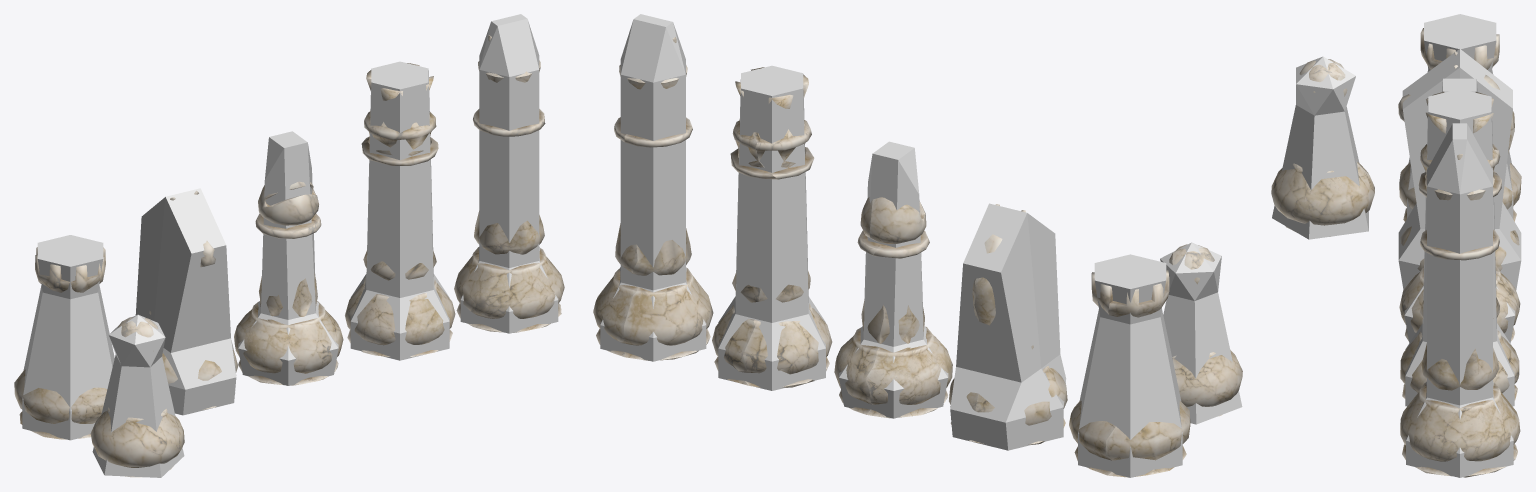
File: chessPieces.fbx
3 views of the same model, side by side, from view 1: azimuth 30°, elevation 25°; view 2: azimuth 150°, elevation 25°; view 3: azimuth 270°, elevation 25° (orthographic). The views are drawn at different scales.
Parts seen in each view (by area): view 1: knight_col, queen_col, king_col, rook_col, bishop, bishop_col, king, queen, Pawn_col, pawn, rook, knight; view 2: knight_col, queen_col, king_col, rook_col, bishop, king, bishop_col, queen, Pawn_col, rook, pawn, knight; view 3: king_col, king, knight_col, Pawn_col, pawn, queen_col, rook_col, queen, rook, bishop, bishop_col, knight.
Boxes of the visible parts, x1=… form: knight_col: x1=135, y1=188, x2=236, y2=415; queen_col: x1=350, y1=61, x2=449, y2=360; king_col: x1=460, y1=14, x2=558, y2=333; rook_col: x1=22, y1=235, x2=114, y2=440; bishop: x1=234, y1=181, x2=343, y2=385; bishop_col: x1=238, y1=131, x2=338, y2=385; king: x1=454, y1=35, x2=564, y2=332; queen: x1=345, y1=63, x2=455, y2=357; Pawn_col: x1=92, y1=314, x2=184, y2=477; pawn: x1=90, y1=317, x2=184, y2=477; rook: x1=14, y1=247, x2=107, y2=439; knight: x1=149, y1=191, x2=238, y2=409; knight_col: x1=950, y1=203, x2=1066, y2=450; queen_col: x1=718, y1=65, x2=825, y2=390; king_col: x1=600, y1=14, x2=706, y2=361; rook_col: x1=1078, y1=254, x2=1182, y2=477; bishop: x1=834, y1=197, x2=952, y2=418; king: x1=593, y1=37, x2=713, y2=360; bishop_col: x1=839, y1=141, x2=948, y2=418; queen: x1=712, y1=67, x2=832, y2=387; Pawn_col: x1=1160, y1=242, x2=1242, y2=424; rook: x1=1069, y1=270, x2=1190, y2=477; pawn: x1=1169, y1=244, x2=1242, y2=416; knight: x1=949, y1=204, x2=1067, y2=444; king_col: x1=1406, y1=123, x2=1513, y2=477; king: x1=1400, y1=154, x2=1520, y2=477; knight_col: x1=1398, y1=49, x2=1521, y2=290; Pawn_col: x1=1272, y1=56, x2=1368, y2=239; pawn: x1=1271, y1=58, x2=1374, y2=236; queen_col: x1=1405, y1=89, x2=1514, y2=406; rook_col: x1=1407, y1=14, x2=1513, y2=218; queen: x1=1400, y1=91, x2=1519, y2=400; rook: x1=1399, y1=28, x2=1521, y2=221; bishop: x1=1399, y1=170, x2=1520, y2=341; bishop_col: x1=1404, y1=78, x2=1515, y2=342; knight: x1=1398, y1=51, x2=1519, y2=271.
Size of the model in its own units: 1.45 by 0.7534 by 0.53.
